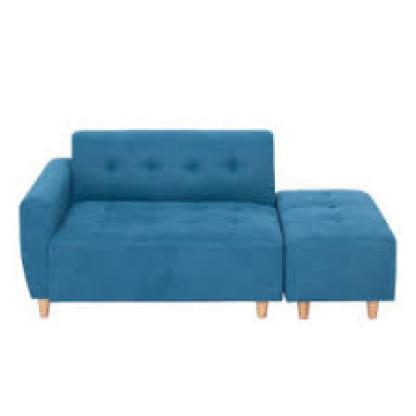sofa: (22, 126, 392, 325)
